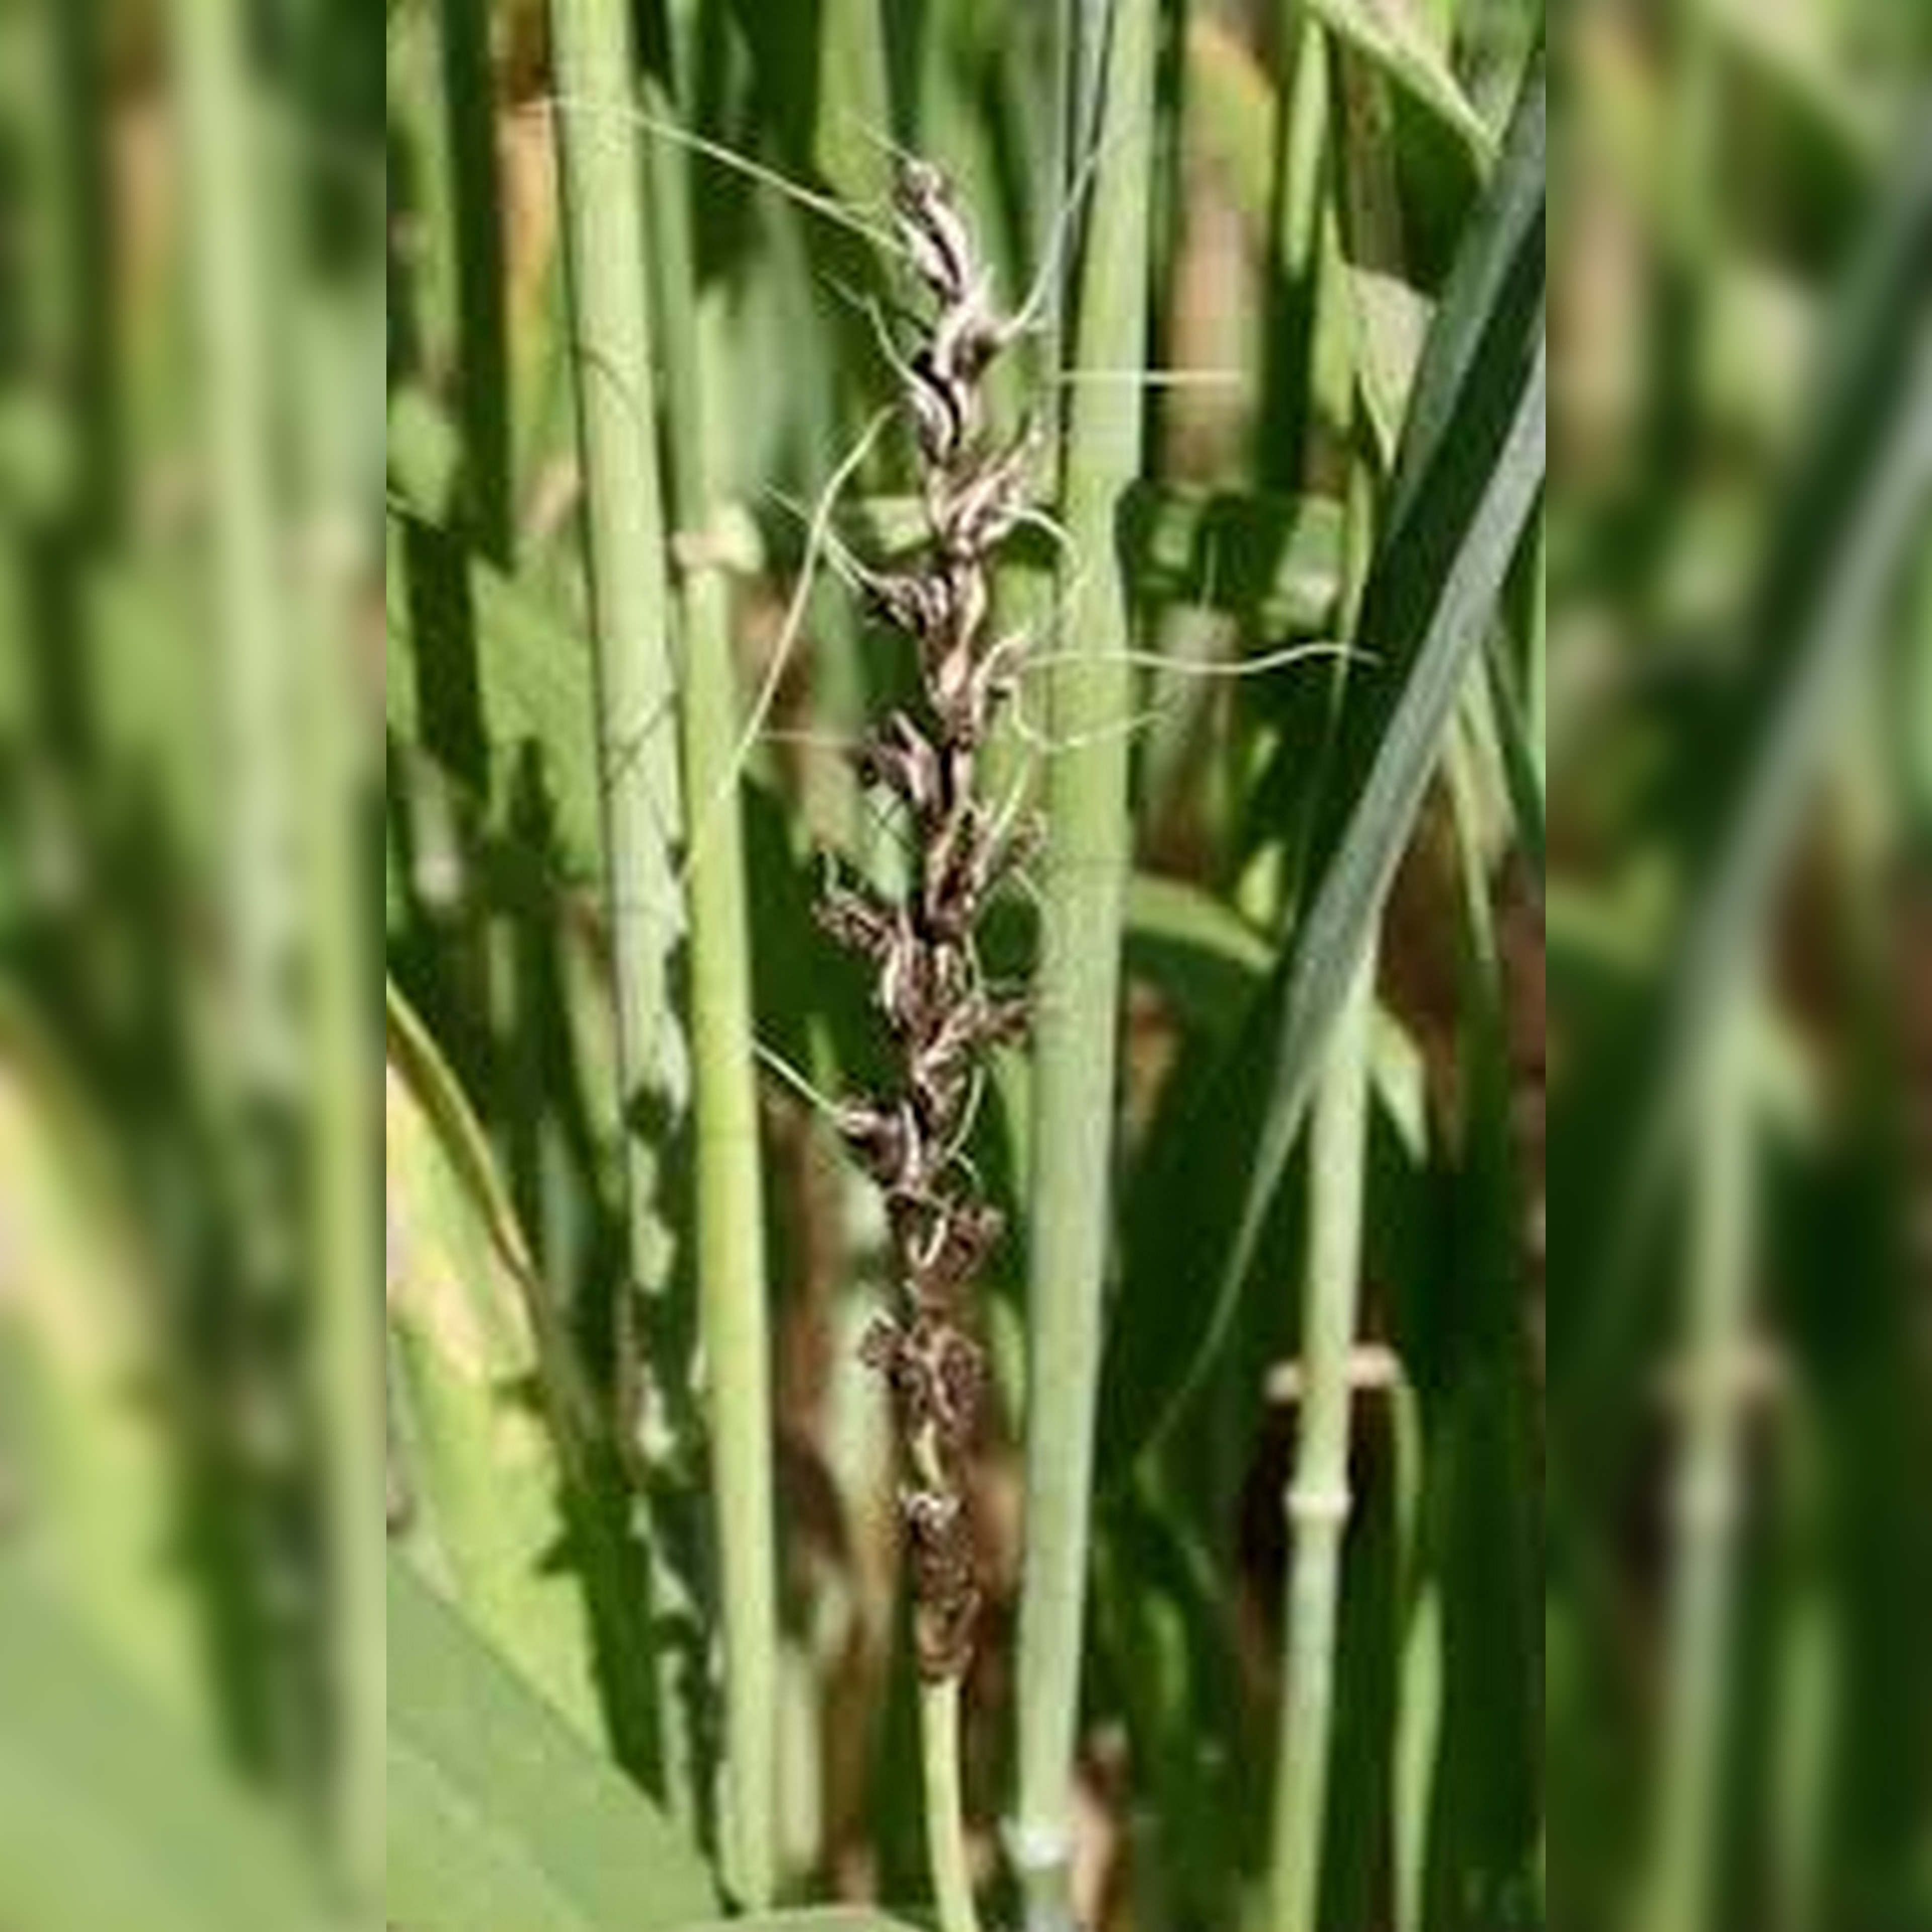Wheat Loose Smut: (789, 262, 1115, 1651)
